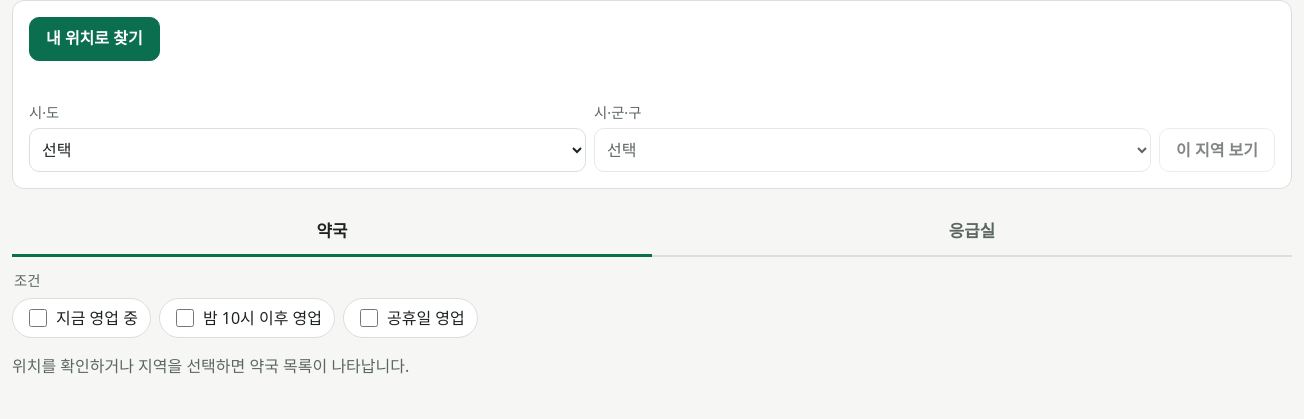
Finder › 서버 오류를 알린다
This screenshot has width=1304, height=419.
Select "서울특별시" in the dropdown labelled "시·도" at (308, 150), box x1=29 y1=128 x2=586 y2=172
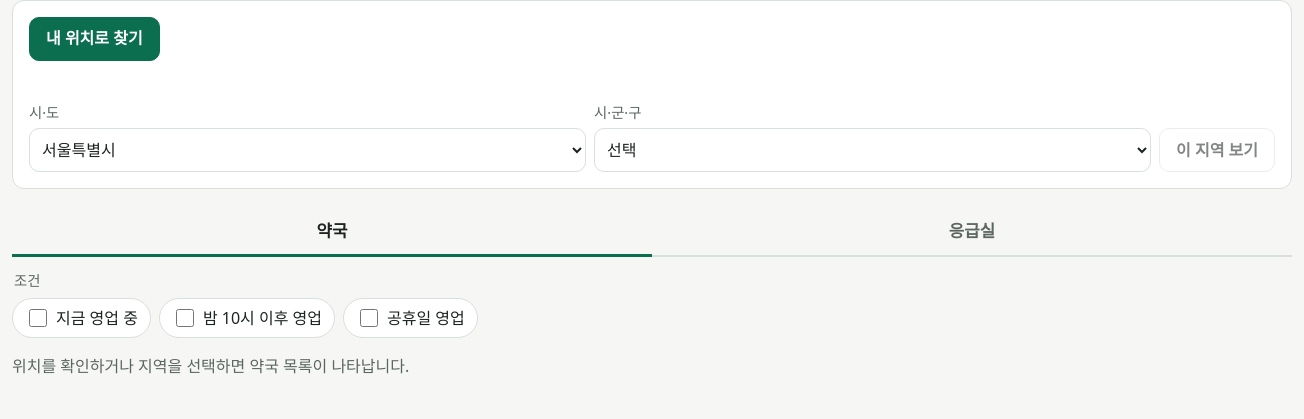
Select "중구" in the dropdown labelled "시·군·구" at (872, 150), box x1=594 y1=128 x2=1151 y2=172
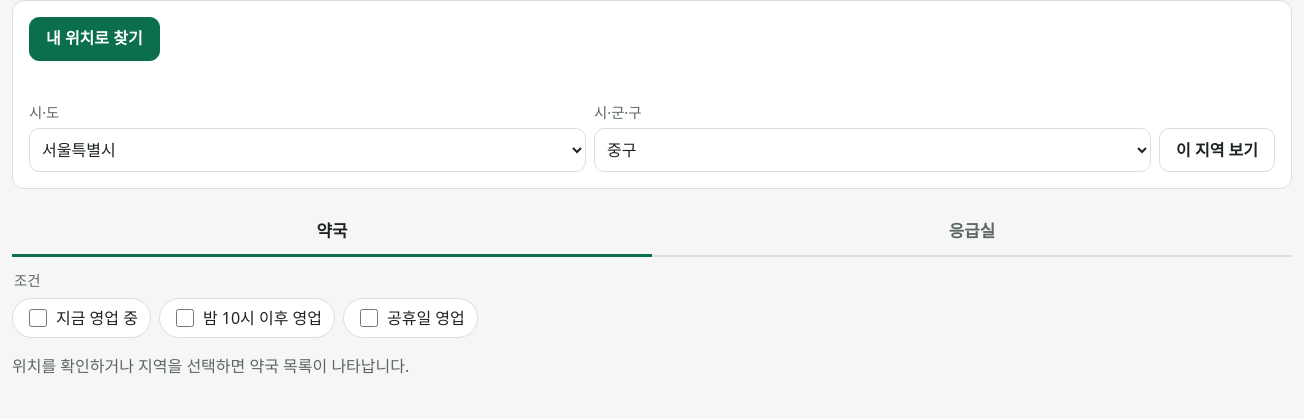
Click the button "이 지역 보기" at (1217, 150), box x1=1159 y1=128 x2=1275 y2=172
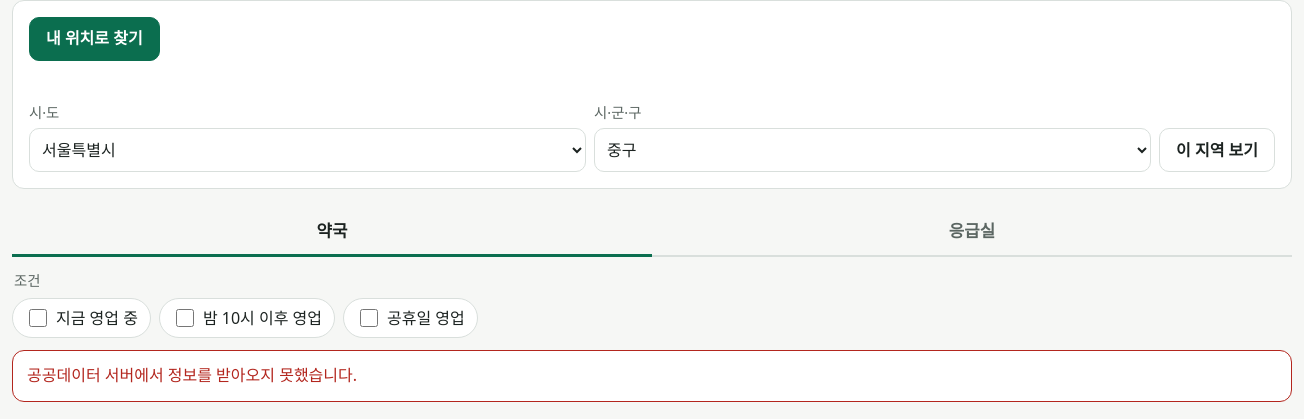
Result: the message "공공데이터 서버에서 정보를 받아오지 못했습니다." is shown at x1=12 y1=350 x2=1292 y2=402
